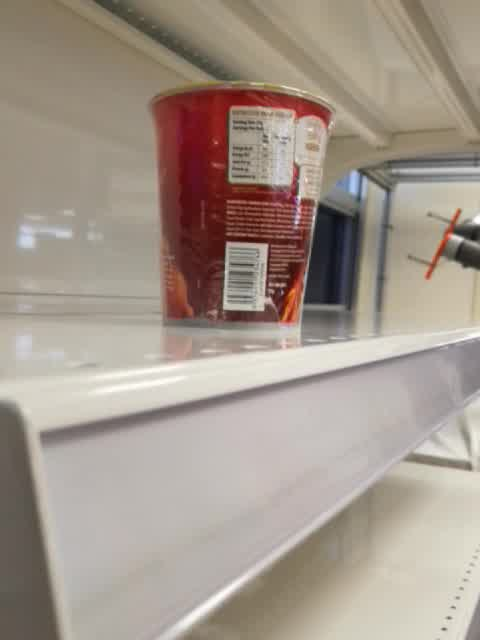maggi: (146, 80, 337, 334)
